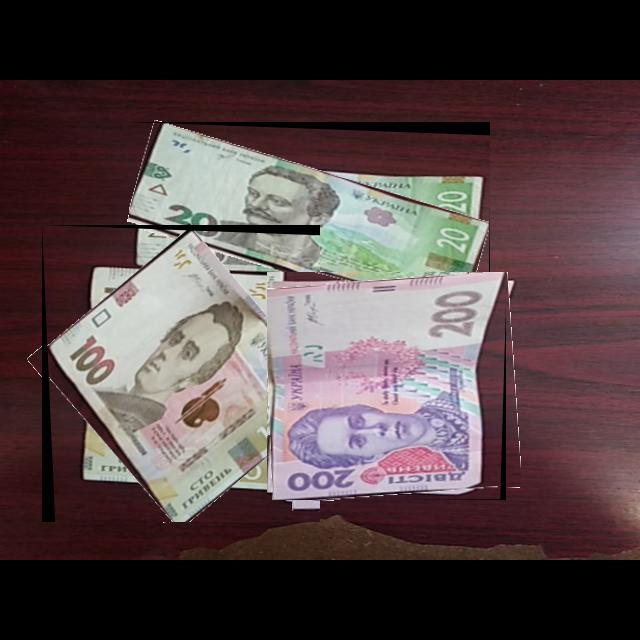100uah: (47, 230, 321, 523)
200uah: (267, 272, 507, 501)
20uah: (129, 123, 490, 309)
